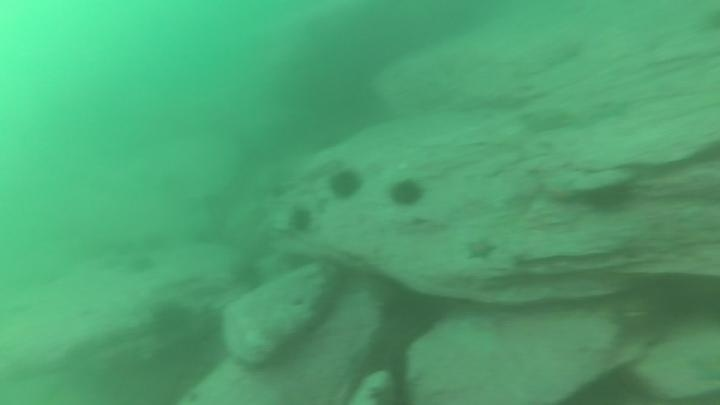echinus: (148, 299, 197, 343), (386, 175, 428, 211), (326, 166, 365, 204), (285, 203, 316, 237)
starfish: (461, 234, 500, 265)
